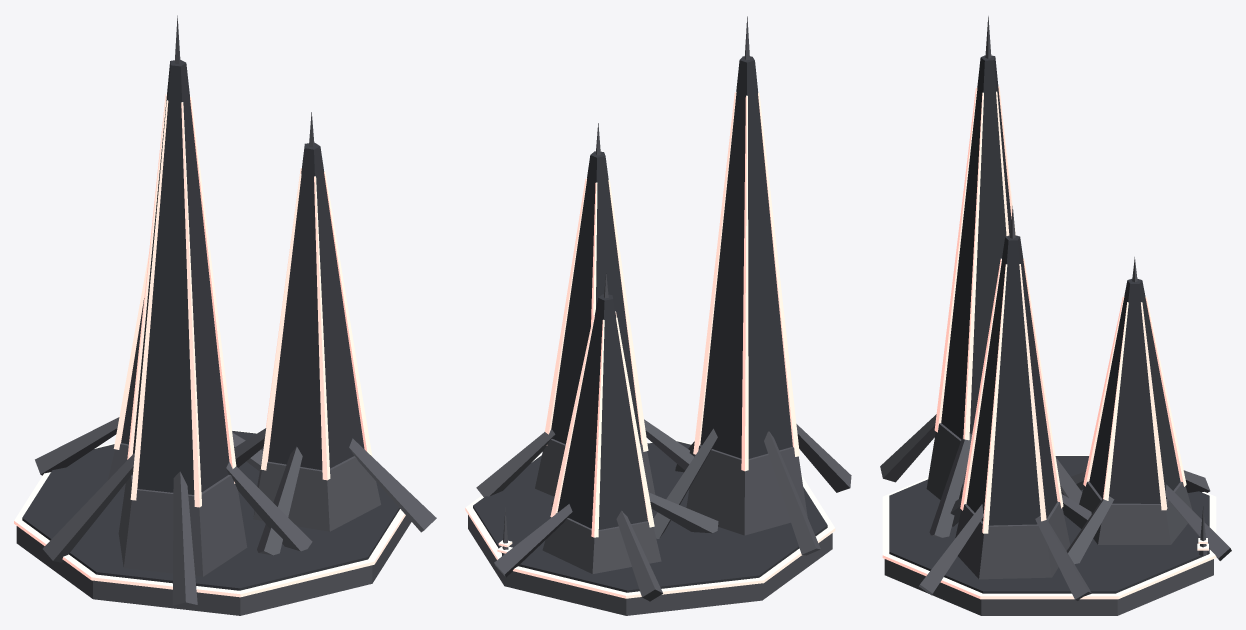
The model's file is zone_high_2_t2.glb.
The picture shows the model from 3 angles, left to right: view 1: azimuth 30°, elevation 25°; view 2: azimuth 150°, elevation 25°; view 3: azimuth 270°, elevation 25°; orthographic projection. The views are drawn at different scales.
Visible parts, largest first — view 1: zone_high_2_t2; view 2: zone_high_2_t2; view 3: zone_high_2_t2.
Boxes of the visible parts, x1,y1,x2,y2 form: zone_high_2_t2: (14, 15, 436, 615); zone_high_2_t2: (465, 16, 851, 615); zone_high_2_t2: (880, 16, 1231, 615).
Bounding box in the file's own units: 29.09 × 45.34 × 28.83.
